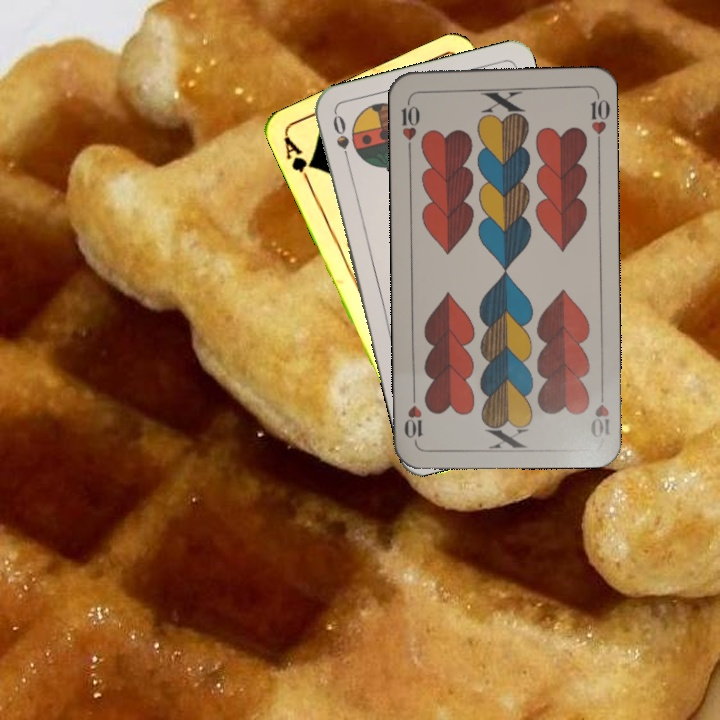GA: (280, 133, 318, 189)
H10: (397, 94, 423, 153), (587, 382, 612, 440)
SO: (329, 110, 353, 168)
